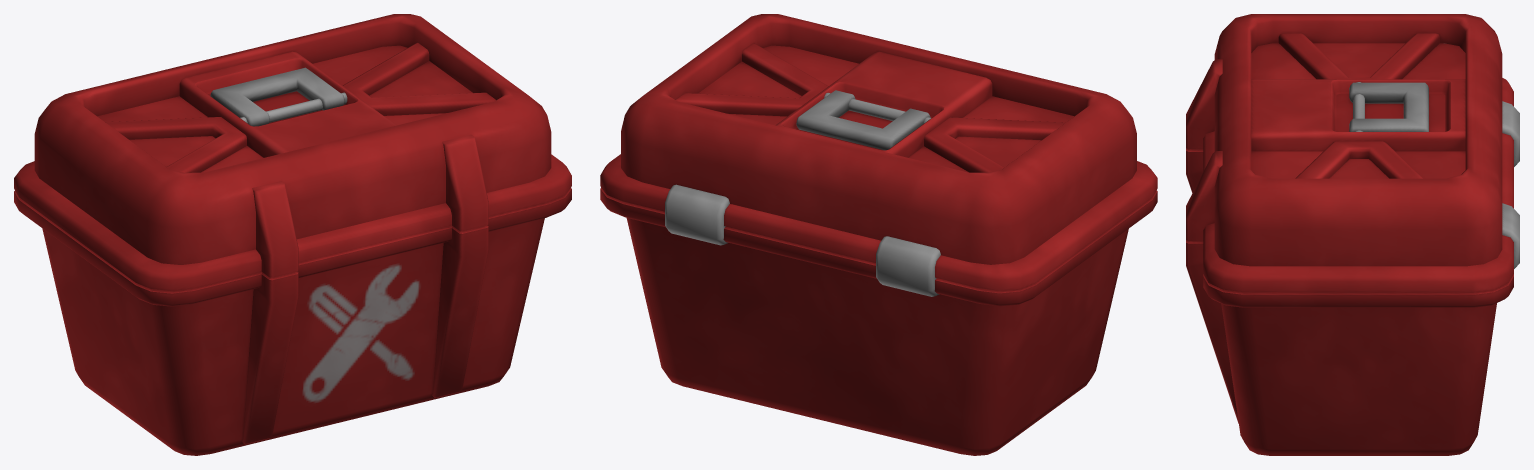
File: toolbox_red.fbx
3 renders of one model, left to right at view 1: azimuth 30°, elevation 25°; view 2: azimuth 150°, elevation 25°; view 3: azimuth 270°, elevation 25°, orthographic.
Visible parts, largest first — view 1: polySurface180.001; view 2: polySurface180.001; view 3: polySurface180.001.
Boxes of the visible parts, x1,y1,x2,y2 form: polySurface180.001: (14,14,571,455); polySurface180.001: (600,14,1157,455); polySurface180.001: (1186,14,1519,455).
Size of the model in its own units: 1.21 by 0.7677 by 0.818.
